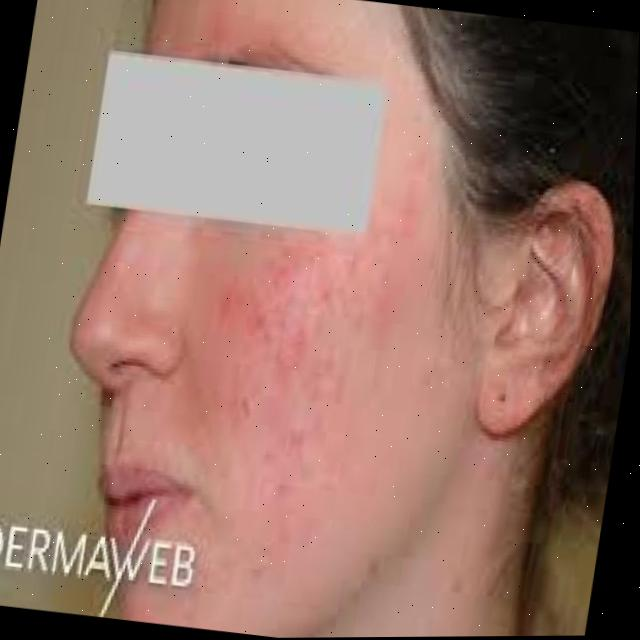Rosacea: (197, 220, 400, 564), (70, 199, 203, 368)
